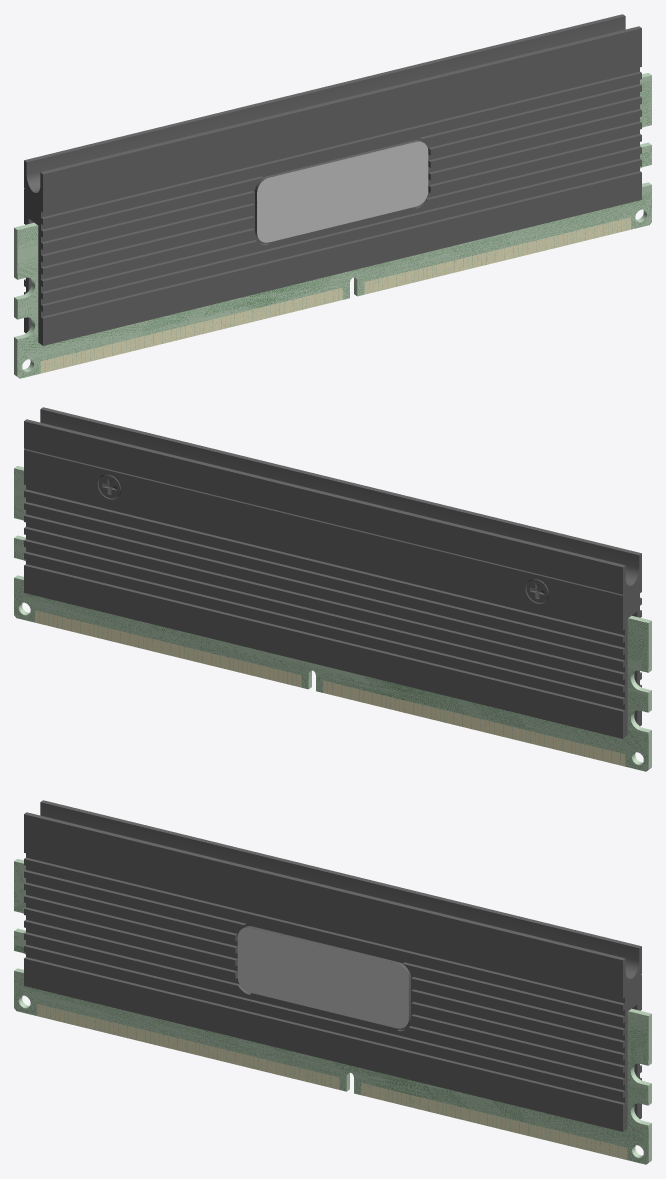
The model's file is ram.dae.
3 renders of one model, top to bottom at view 1: azimuth 30°, elevation 25°; view 2: azimuth 150°, elevation 25°; view 3: azimuth 330°, elevation 25°, orthographic.
Visible parts, largest first — view 1: group_1, group_6_004, group_2, group_6_002, group_1_002; view 2: group_4, group_1, group_6_003, group_6_002; view 3: group_1, group_6_004, group_2, group_6_002, group_1_002.
Part boxes in pixels (<box>): group_1: <box>24,14,641,345</box>; group_6_004: <box>17,75,651,378</box>; group_2: <box>257,141,428,242</box>; group_6_002: <box>14,73,651,377</box>; group_1_002: <box>255,140,423,239</box>; group_4: <box>24,448,627,738</box>; group_1: <box>24,407,641,725</box>; group_6_003: <box>14,468,648,771</box>; group_6_002: <box>14,466,651,770</box>; group_1: <box>24,800,641,1131</box>; group_6_004: <box>14,861,648,1164</box>; group_2: <box>237,927,408,1028</box>; group_6_002: <box>14,859,651,1163</box>; group_1_002: <box>242,926,410,1025</box>.
Size of the model in its own units: 0.1335 by 0.00705 by 0.0415.
